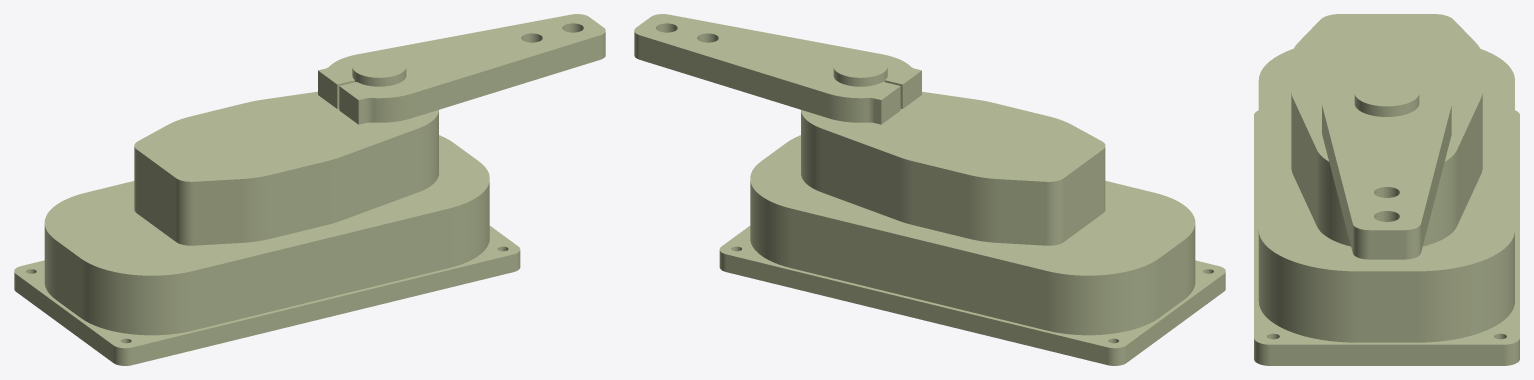
The model's file is CONTROL__STEERING__STEERING COMPONENTS__autopilot DD1.glb.
The picture shows the model from 3 angles, left to right: view 1: azimuth 30°, elevation 25°; view 2: azimuth 150°, elevation 25°; view 3: azimuth 270°, elevation 25°; orthographic projection. The views are drawn at different scales.
Visible parts, largest first — view 1: autopilot DD1; view 2: autopilot DD1; view 3: autopilot DD1.
Part boxes in pixels (bbox=[...]): autopilot DD1: bbox=[14, 14, 605, 365]; autopilot DD1: bbox=[634, 14, 1225, 365]; autopilot DD1: bbox=[1254, 14, 1519, 365].
Bounding box in the file's own units: 0.453 × 0.15 × 0.164.
